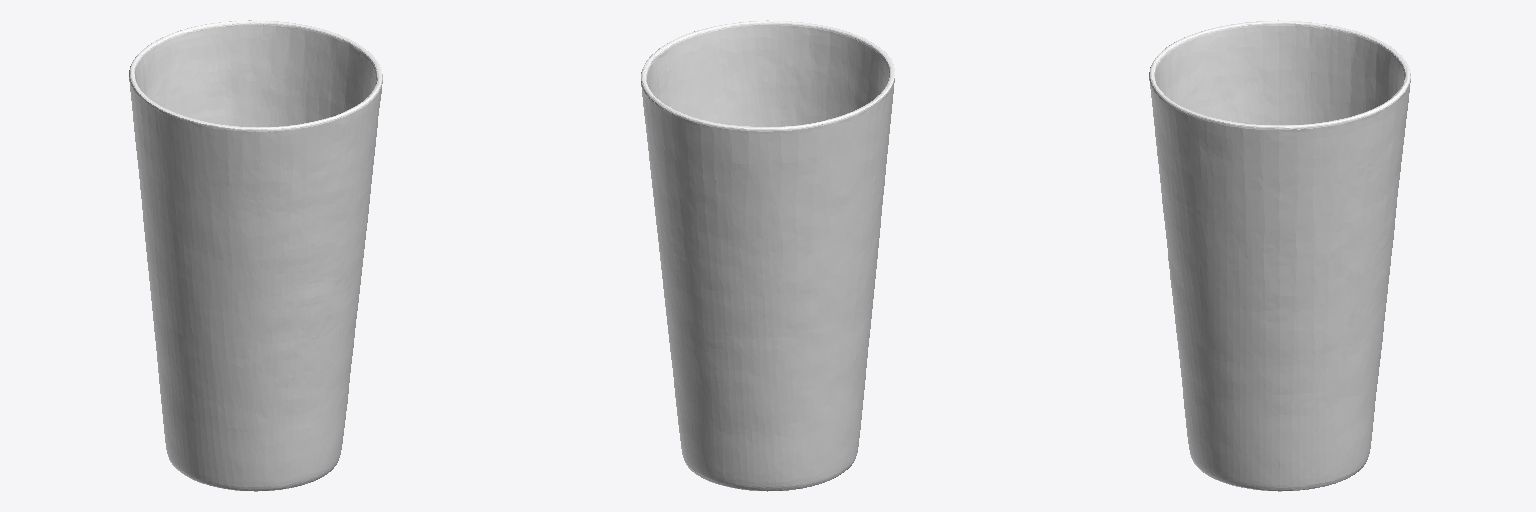
The robot description file, URDF, robot "009_copo":
<robot name="009_copo">
	<link name="_name">
		<visual>
			<origin xyz="0 0 -0.5" rpy="1.5708 0 0" />
			<geometry>
				<mesh filename="009_copo/copo.obj" scale="1.3 1.3 1.3" />
			</geometry>
			<material name="texture">
				<color rgba="1.0 1.0 1.0 1.0" />
			</material>
		</visual>
		<collision>
			<geometry>
				<mesh filename="009_copo/copo.obj" scale="1.3 1.3 1.3" />
			</geometry>
		<origin xyz="0 0 -0.5" rpy="1.5708 0 0" /></collision>
		<inertial>
			<mass value="1.0" />
			<inertia ixx="1.0" ixy="0.0" ixz="0.0" iyy="1.0" iyz="0.0" izz="1.0" />
		</inertial>
	</link>
</robot>

--- What the picture shows (computed from the rendered views, not written in the file) ---
3 views of the same robot in one strip: view 1: azimuth 30°, elevation 25°; view 2: azimuth 150°, elevation 25°; view 3: azimuth 270°, elevation 25° (orthographic).
Model 009_copo with 1 links and 0 joints (none), rooted at _name, posed every joint at zero.
Visible links, largest first — view 1: _name; view 2: _name; view 3: _name.
Boxes of the visible links, box(x1,y1,x2,y2) form: _name: box(129, 20, 382, 491); _name: box(641, 20, 894, 491); _name: box(1149, 20, 1410, 491).
Size in the robot's own frame: 0.7766 by 0.8036 by 1.3 metres.
Meshes: 1 distinct files referenced, 1 mesh visuals loaded (1 OBJ).
